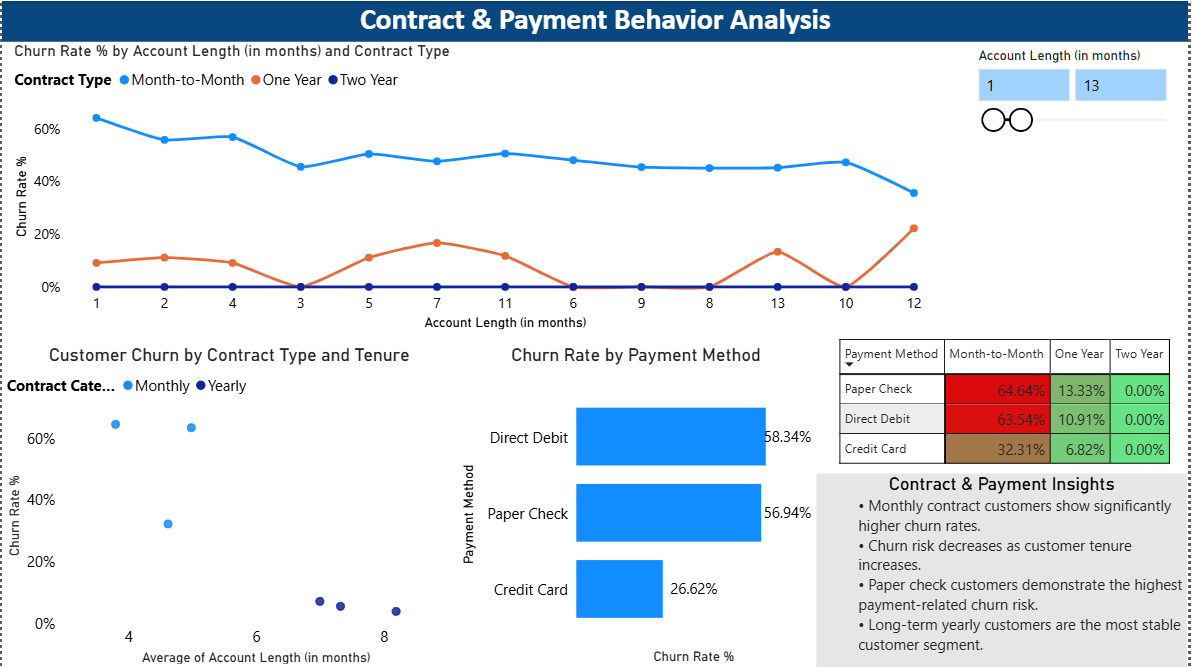

Layout of this report page (visuals, bound fields, positions):
{"tool":"powerbi","page":{"name":"CONTRACT & PAYMENT ANALYSIS","canvas":[1280,720],"ordinal":2},"visuals":[{"type":"scatterChart","title":"Customer Churn by Contract Type and Tenure","fields":{"Series":["Databel - Data.Contract Category"],"Category":["Databel - Data.Payment Method"],"Y":["calculation.Churn Rate %"],"X":["Avg(Databel - Data.Account Length (in months))"]},"box":[0,370.8,490.6,349.8],"z":0},{"type":"clusteredBarChart","title":"Churn Rate by Payment Method","fields":{"Y":["calculation.Churn Rate %"],"Category":["Databel - Data.Payment Method"]},"box":[491.1,370.8,387.5,349.1],"z":1000},{"type":"lineChart","fields":{"Y":["calculation.Churn Rate %"],"Category":["Databel - Data.Account Length (in months)"],"Series":["Databel - Data.Contract Type"]},"box":[8.1,43.7,1010.4,315.7],"z":2000},{"type":"pivotTable","fields":{"Rows":["Databel - Data.Payment Method"],"Columns":["Databel - Data.Contract Type"],"Values":["calculation.Churn Rate %"]},"box":[898.6,359.1,380.8,150.3],"z":3000},{"type":"textbox","title":"Contract & Payment Behavior Analysis","box":[0,0,1280.8,43.7],"z":4000},{"type":"textbox","title":"Contract & Payment Insights","box":[879.2,510.1,399.9,210.5],"z":5000},{"type":"slicer","fields":{"Values":["Databel - Data.Account Length (in months)"]},"box":[1041.8,44.9,237.5,295.2],"z":6000}]}

Visuals, with their boxes in screenshot pixels (x1, y1, x2, y2), scaled from the page's 1280x720 canvas onto the 1192x667 screenshot:
"Customer Churn by Contract Type and Tenure" scatterChart: Rect(0, 344, 457, 666)
"Churn Rate by Payment Method" clusteredBarChart: Rect(457, 344, 818, 666)
lineChart - calculation.Churn Rate % x Databel - Data.Account Length (in months): Rect(8, 40, 948, 333)
pivotTable - Databel - Data.Payment Method x Databel - Data.Contract Type: Rect(837, 333, 1191, 472)
"Contract & Payment Behavior Analysis" textbox: Rect(0, 0, 1191, 40)
"Contract & Payment Insights" textbox: Rect(819, 473, 1191, 666)
slicer - Databel - Data.Account Length (in months): Rect(970, 42, 1191, 315)
